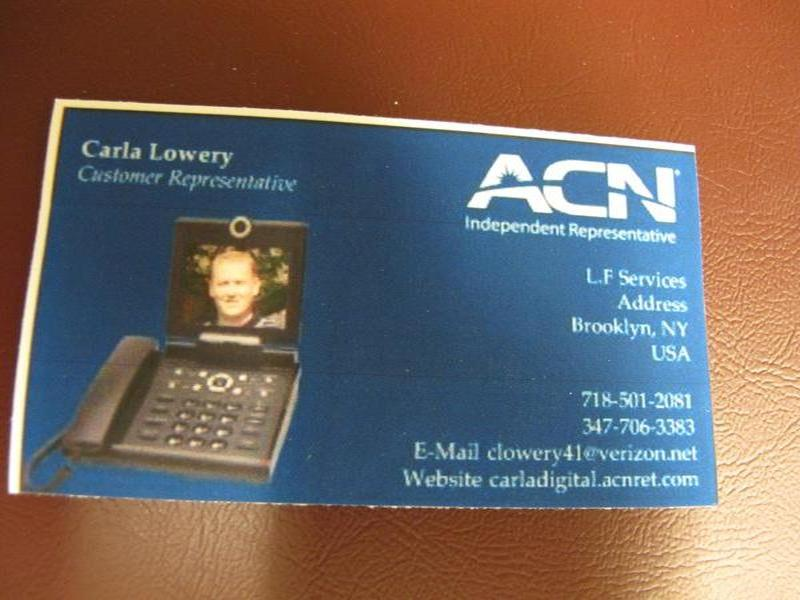card: (6, 92, 725, 511)
